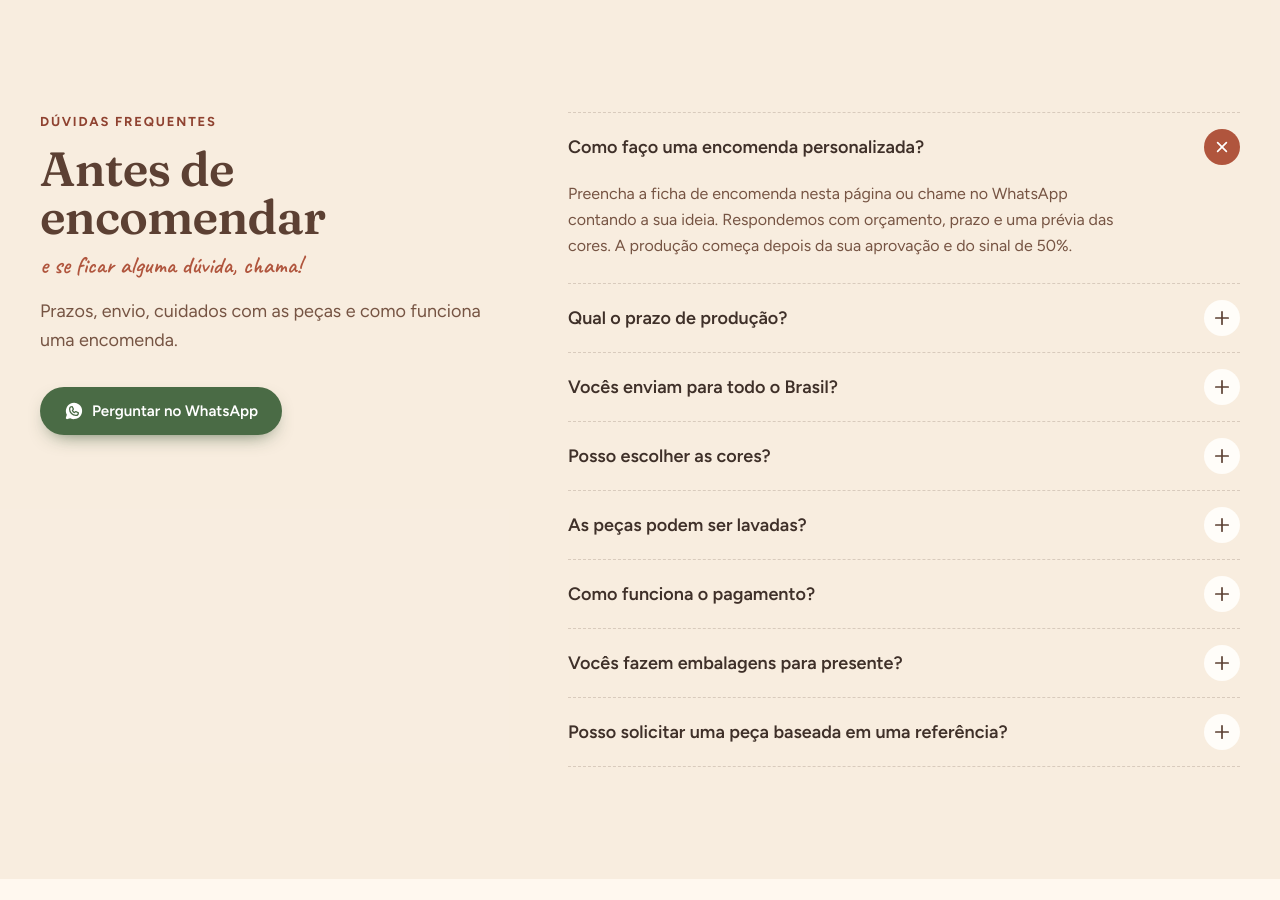
FAQ › abre e fecha respostas com aria-expanded
The width and height of the screenshot is (1280, 900).
Step 1. Click the button "Qual o prazo de produção?" → (678,318), box [568,284,1240,352]
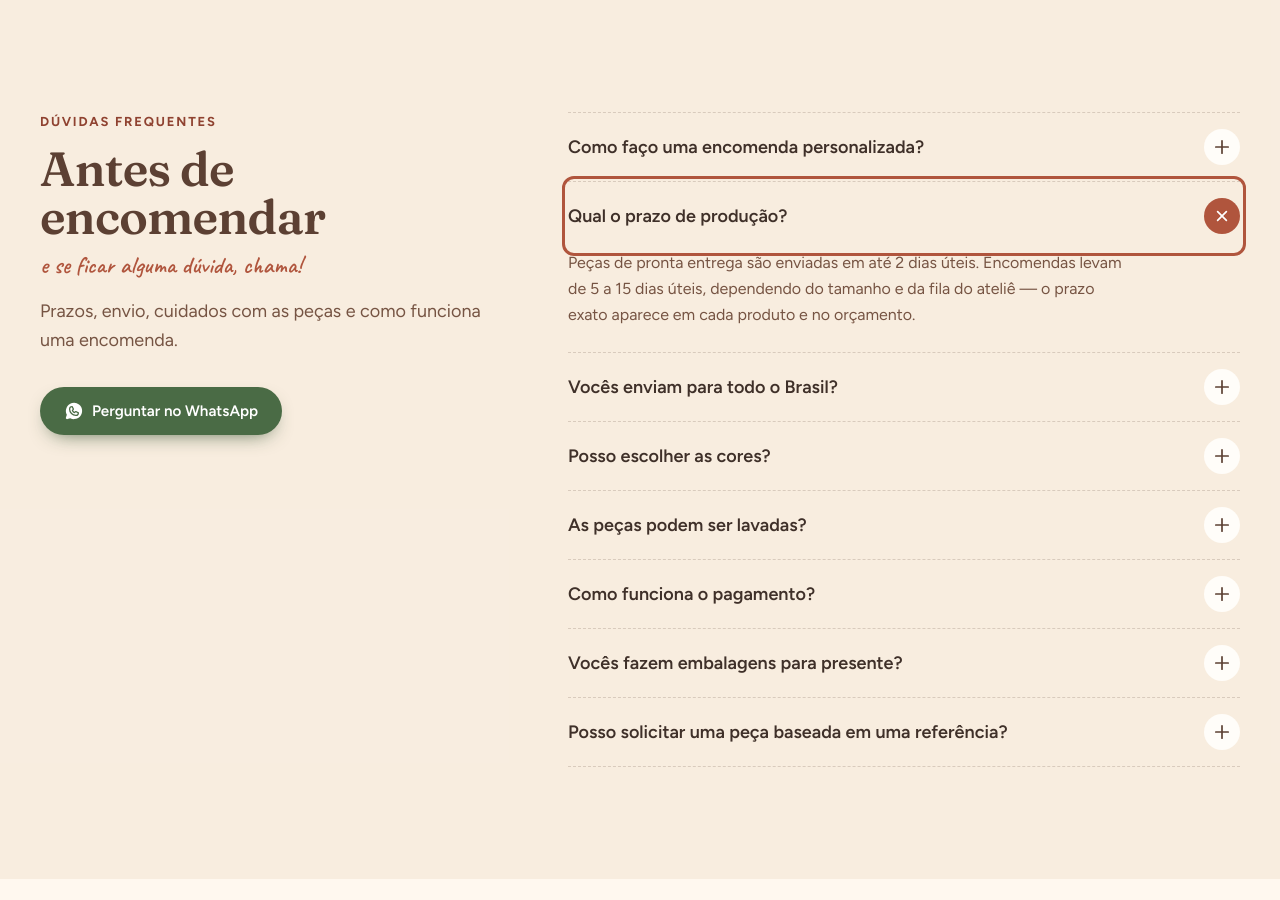
Check: the element named "Qual o prazo de produção?" is shown, box [568,253,1122,324]
Check: the button "Qual o prazo de produção?" is expanded, box [568,182,1240,250]
